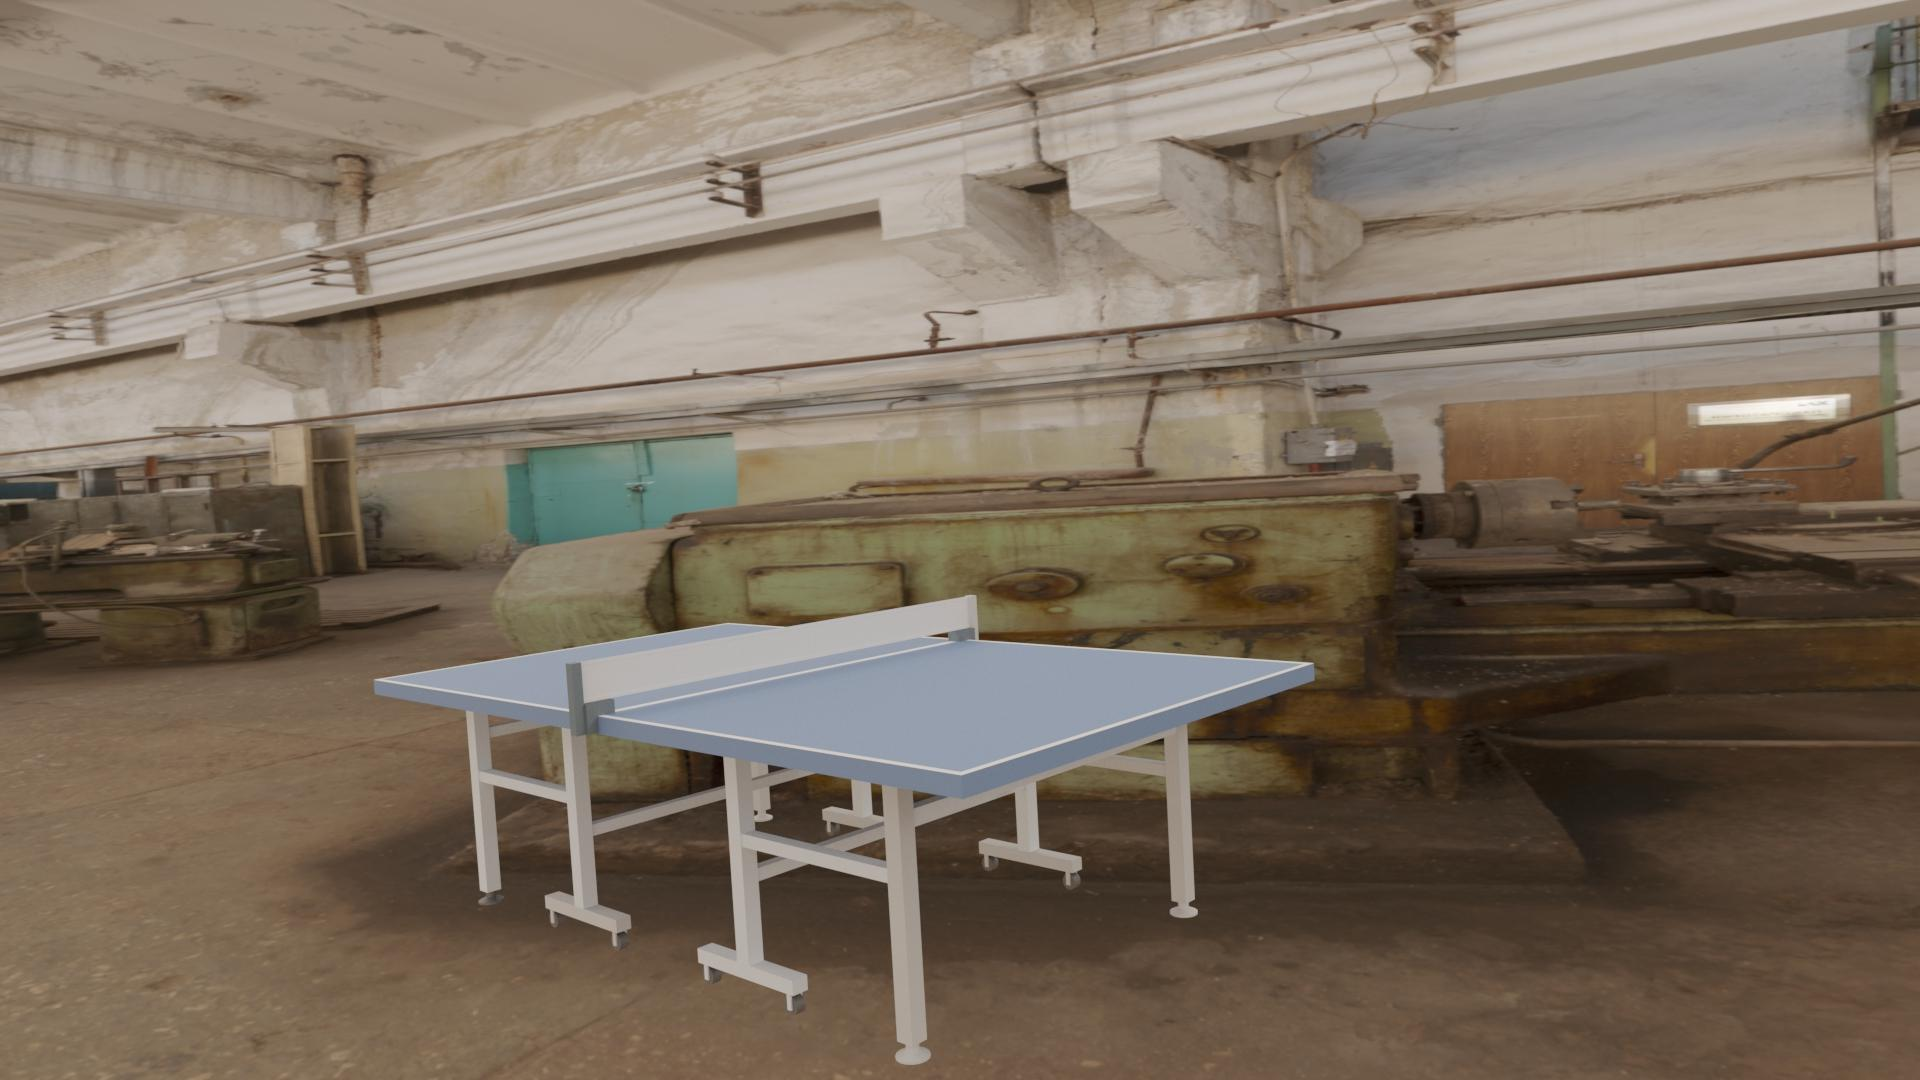table: (382, 624, 1304, 771)
